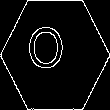O_S: (37, 30, 73, 80)
